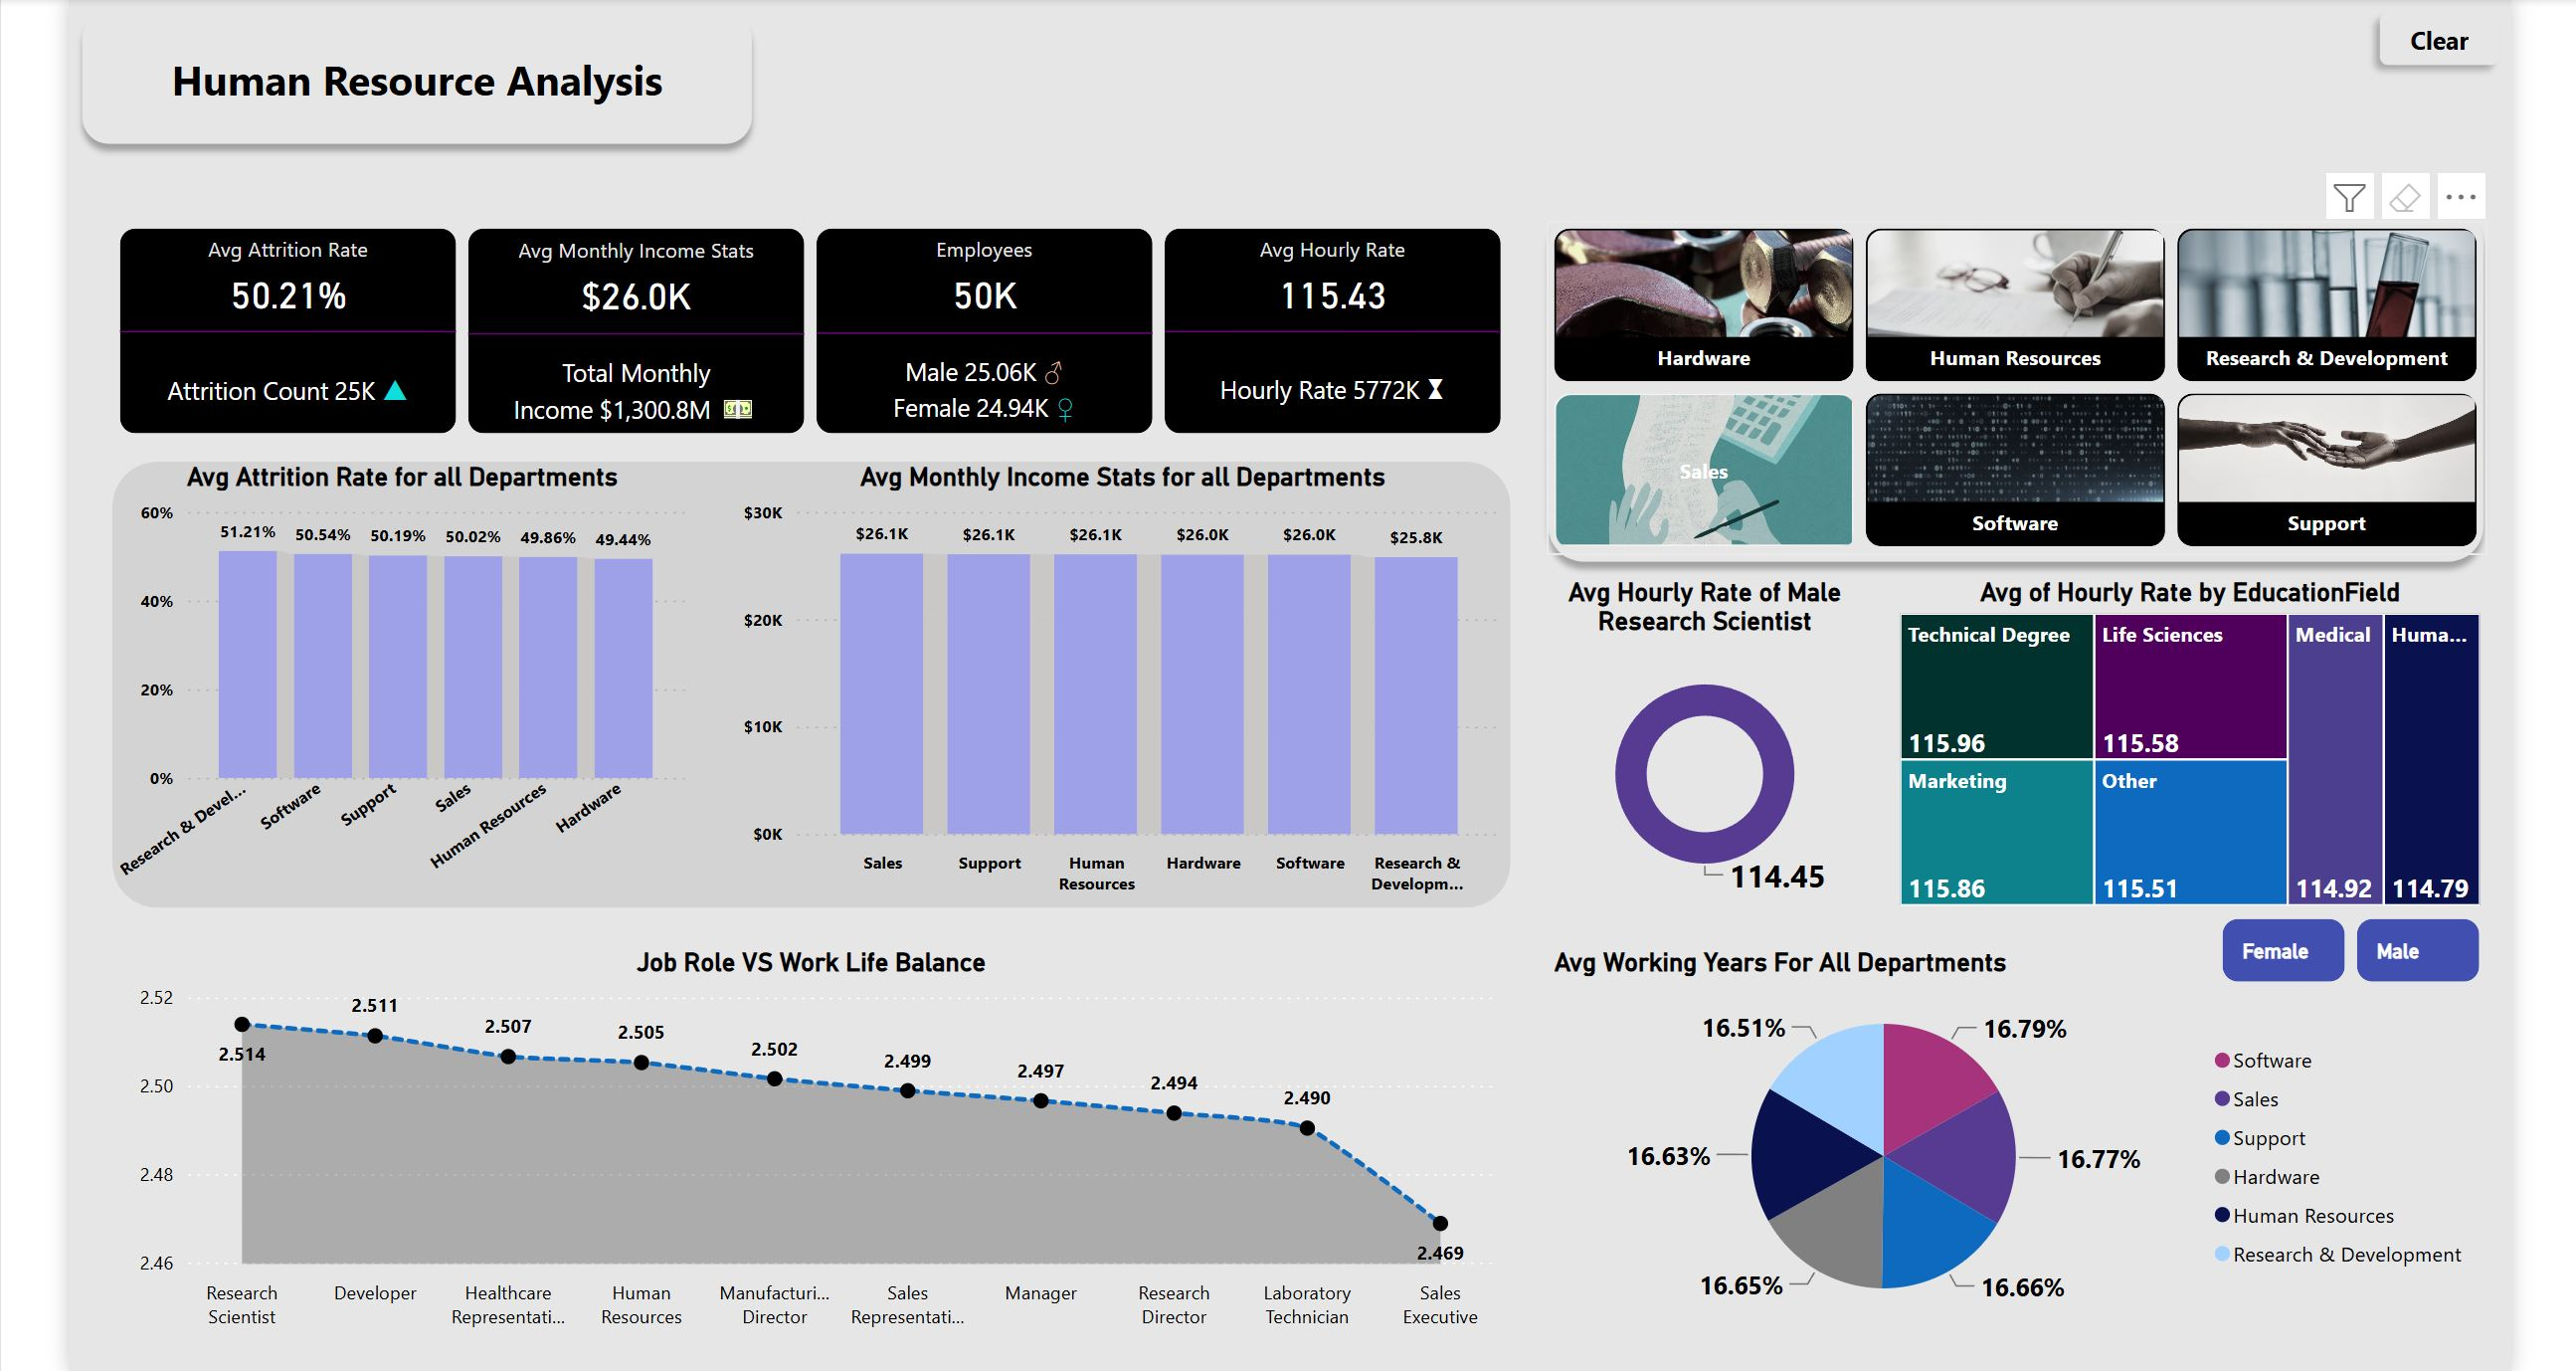

The dashboard page shown, as its layout file describes it:
{"tool":"powerbi","page":{"name":"Report Analysis","canvas":[1600,900],"ordinal":0},"visuals":[{"type":"shape","box":[960,129.4,630.3,249],"z":0},{"type":"shape","box":[29.2,303.3,915.5,292.2],"z":1000},{"type":"advancedSlicerVisual","fields":{"Values":["HR1.Department"]},"box":[967.7,145.9,616.1,218.8],"z":2000},{"type":"cardVisual","fields":{"Data":["Avg(HR1.Attrition Rate)","Avg(HR2.MonthlyIncome)","Sum(HR1.EmployeeCount)","Avg(HR1.HourlyRate)"]},"box":[29.2,146.1,915.5,144.7],"z":3000},{"type":"columnChart","fields":{"Category":["HR1.Department"],"Y":["Avg(HR1.Attrition Rate)"]},"box":[29.2,303.3,379.8,292.2],"z":4000},{"type":"donutChart","title":"Avg Hourly Rate of Male Research Scientist","fields":{"Y":["Avg(HR1.HourlyRate)"],"Category":["HR1.Gender"]},"box":[968.3,378.4,207.3,219.8],"z":5000},{"type":"columnChart","fields":{"Category":["HR1.Department"],"Y":["Avg(HR2.MonthlyIncome)"]},"box":[436.9,303.3,507.8,290.8],"z":6000},{"type":"pieChart","fields":{"Y":["Avg(HR2.TotalWorkingYears)"],"Category":["HR1.Department"]},"box":[968.3,621.9,613.6,254.6],"z":7000},{"type":"advancedSlicerVisual","fields":{"Values":["HR1.Gender"]},"box":[1405.2,598.3,178.1,51.5],"z":8000},{"type":"lineChart","title":"Job Role VS Work Life Balance","fields":{"Category":["HR1.JobRole"],"Y":["Avg(HR2.WorkLifeBalance)"]},"box":[29.2,621.9,915.5,257.4],"z":9000},{"type":"actionButton","box":[1504,1.4,96,51.5],"z":10000},{"type":"treemap","title":"Avg of Hourly Rate by EducationField","fields":{"Group":["HR1.EducationField"],"Values":["Avg(HR1.HourlyRate)"]},"box":[1193.7,378.4,389.6,219.8],"z":11000},{"type":"shape","box":[0,0,456.3,104.3],"z":12000}]}

Visuals, with their boxes on the page's 1600x900 design canvas (x1, y1, x2, y2). These are canvas units, not pixel positions in the 2576x1371 screenshot, which may show the page scaled, cropped or inside an application window:
shape: box=[960, 129, 1590, 378]
shape: box=[29, 303, 945, 596]
advancedSlicerVisual - HR1.Department: box=[968, 146, 1584, 365]
cardVisual - Avg(HR1.Attrition Rate) x Avg(HR2.MonthlyIncome): box=[29, 146, 945, 291]
columnChart - HR1.Department x Avg(HR1.Attrition Rate): box=[29, 303, 409, 596]
"Avg Hourly Rate of Male Research Scientist" donutChart: box=[968, 378, 1176, 598]
columnChart - HR1.Department x Avg(HR2.MonthlyIncome): box=[437, 303, 945, 594]
pieChart - Avg(HR2.TotalWorkingYears) x HR1.Department: box=[968, 622, 1582, 876]
advancedSlicerVisual - HR1.Gender: box=[1405, 598, 1583, 650]
"Job Role VS Work Life Balance" lineChart: box=[29, 622, 945, 879]
actionButton: box=[1504, 1, 1600, 53]
"Avg of Hourly Rate by EducationField" treemap: box=[1194, 378, 1583, 598]
shape: box=[0, 0, 456, 104]
